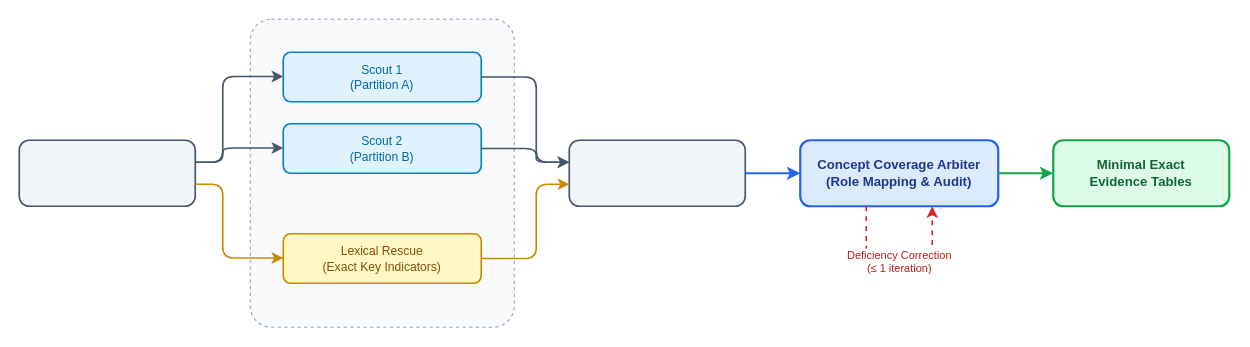
This 1250x347 diagram has some shape labels left out. Here are the shapes that lost their labels. From the top down, the box of each, then its label:
(18, 139, 196, 207): Reranked Tables (Top-20 Candidates)
(249, 18, 514, 327): Parallel Scouting & Lexical Safeguards
(568, 139, 746, 207): Merged Finalist Pool + Coverage Locks
